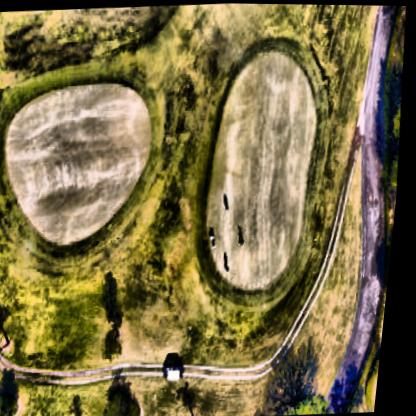tree-top: (286, 377, 345, 415), (111, 381, 148, 416), (100, 327, 131, 366), (0, 384, 31, 416)
